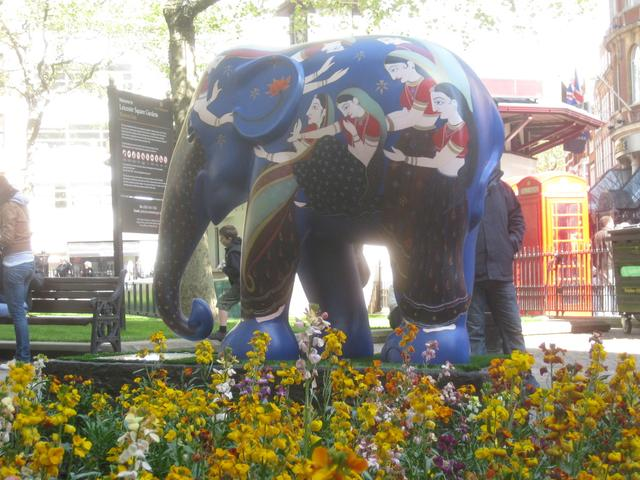elephant: (100, 13, 524, 421)
